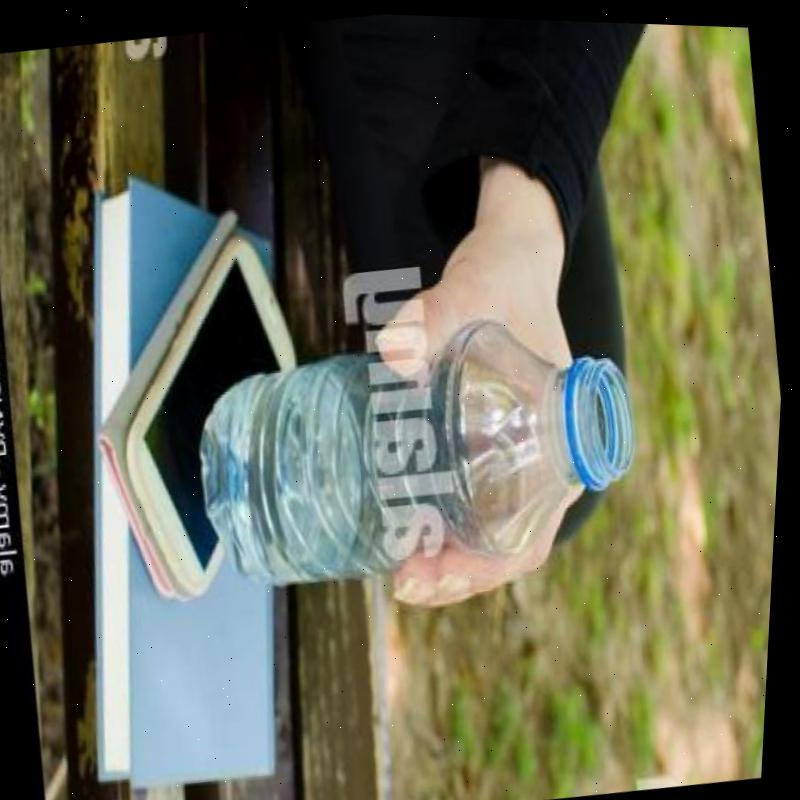botella: (170, 282, 659, 605)
